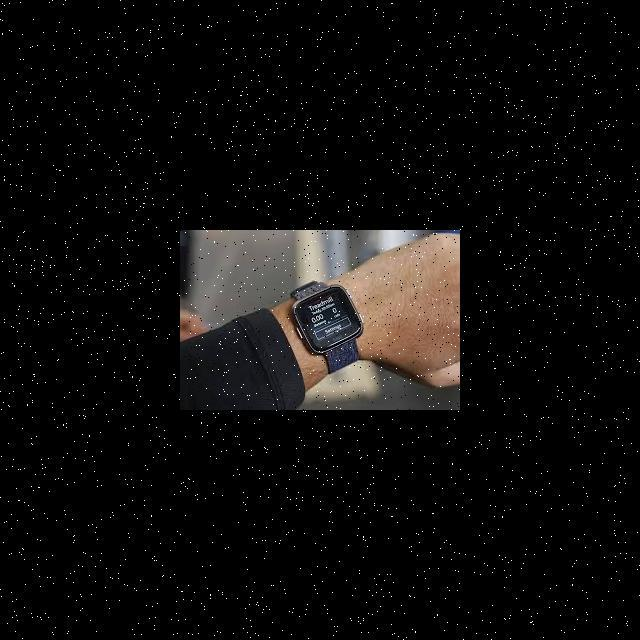watch: (275, 264, 372, 398)
